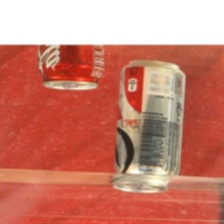can: (105, 56, 197, 197), (33, 44, 107, 93)
